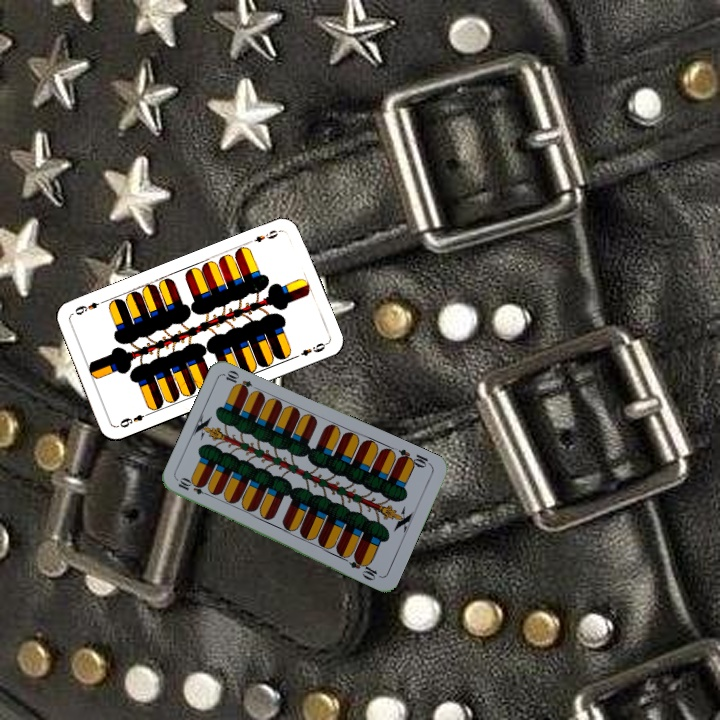E10: (393, 445, 434, 471), (174, 475, 214, 499)
E9: (244, 226, 284, 246), (116, 409, 153, 430)
